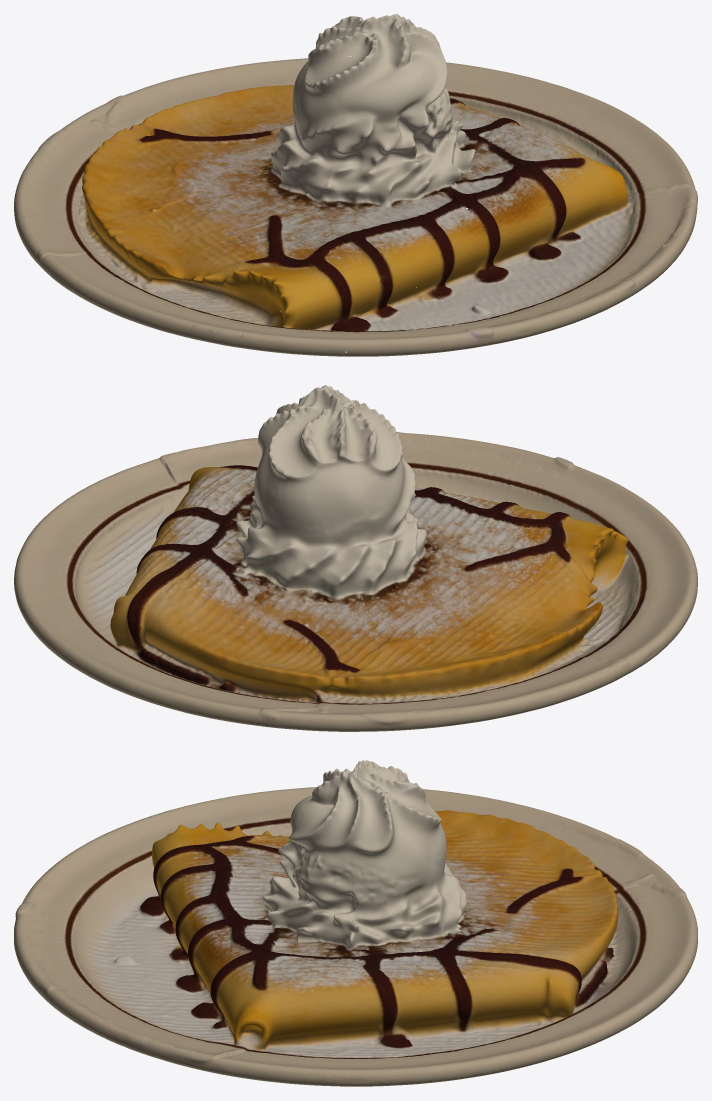
Rendered from dessertcrepe-v1.glb.
The picture shows the model from 3 angles, top to bottom: view 1: azimuth 30°, elevation 25°; view 2: azimuth 150°, elevation 25°; view 3: azimuth 270°, elevation 25°; orthographic projection.
Visible parts, largest first — view 1: tripo_node_3fc4901b-75e8-4efa-8534-28aba570c0f3; view 2: tripo_node_3fc4901b-75e8-4efa-8534-28aba570c0f3; view 3: tripo_node_3fc4901b-75e8-4efa-8534-28aba570c0f3.
Part boxes in pixels (x1=…): tripo_node_3fc4901b-75e8-4efa-8534-28aba570c0f3: x1=14, y1=14, x2=697, y2=356; tripo_node_3fc4901b-75e8-4efa-8534-28aba570c0f3: x1=14, y1=385, x2=697, y2=731; tripo_node_3fc4901b-75e8-4efa-8534-28aba570c0f3: x1=14, y1=760, x2=697, y2=1086.
Bounding box in the file's own units: 1 × 0.3413 × 1.
Materials: 1 (1 with a texture image).
